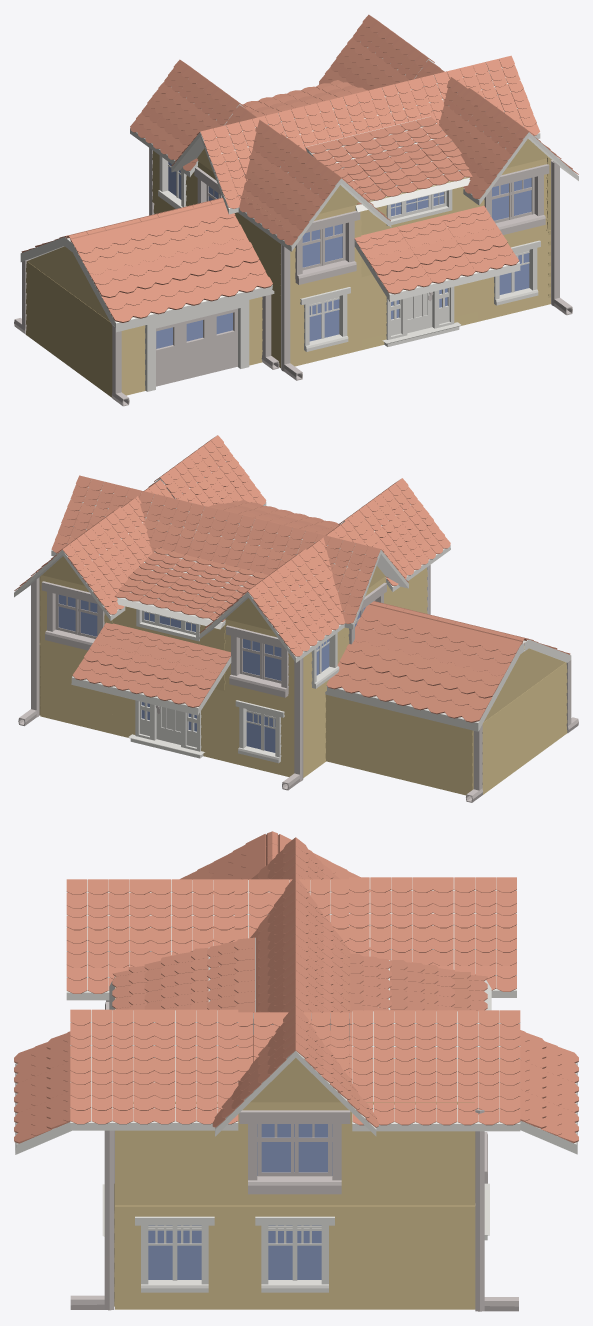
Rendered from House_04.fbx.
3 views of the same model, one above another, from view 1: azimuth 30°, elevation 25°; view 2: azimuth 150°, elevation 25°; view 3: azimuth 270°, elevation 25° (orthographic). The views are drawn at different scales.
Parts seen in each view (by area): view 1: House_04; view 2: House_04; view 3: House_04.
Boxes of the visible parts, left/top/right/bottom form: House_04: left=14, top=14, right=578, bottom=406; House_04: left=14, top=435, right=578, bottom=802; House_04: left=14, top=831, right=578, bottom=1311.
Size of the model in its own units: 2136 by 880 by 1648.
